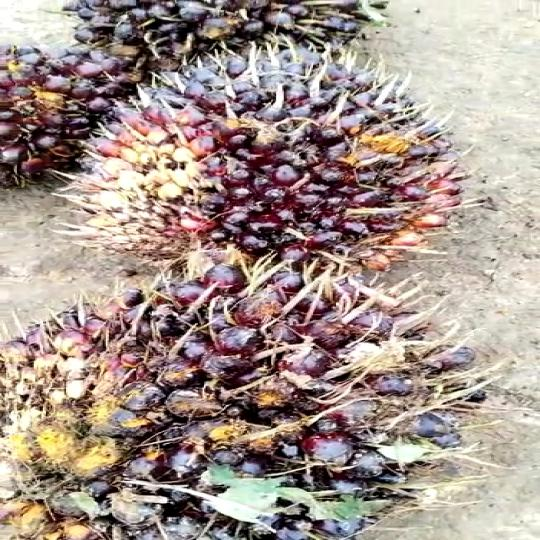kurang masak: (0, 240, 448, 540), (81, 41, 473, 258)
